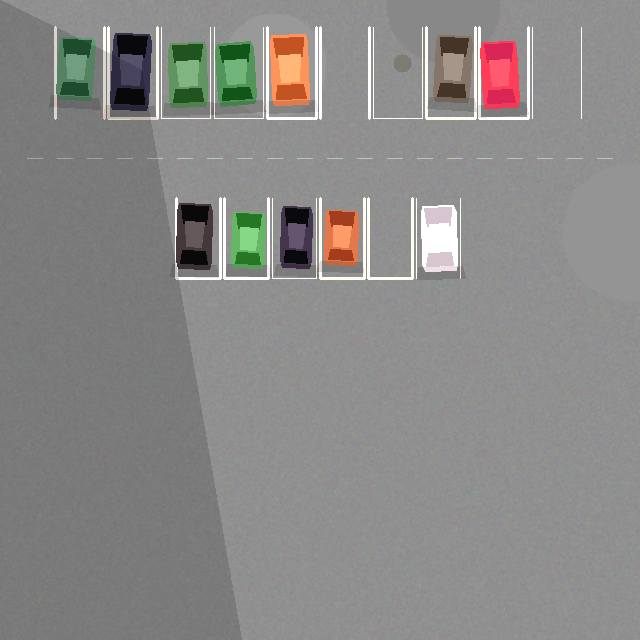space-empty: (320, 27, 369, 118), (373, 27, 422, 118), (532, 27, 581, 118), (368, 198, 412, 278)
space-occupied: (55, 27, 104, 118), (108, 27, 157, 118), (161, 27, 210, 118), (214, 27, 263, 118), (267, 27, 316, 118), (426, 27, 475, 118), (479, 27, 528, 118), (176, 198, 220, 278), (224, 198, 268, 278), (272, 198, 316, 278), (320, 198, 364, 278), (416, 198, 460, 278)
